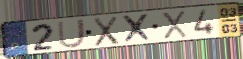2: (29, 21, 57, 53)
4: (193, 8, 217, 37)
U: (56, 17, 88, 49)
X: (120, 13, 154, 44), (159, 9, 189, 40), (92, 15, 120, 48)
